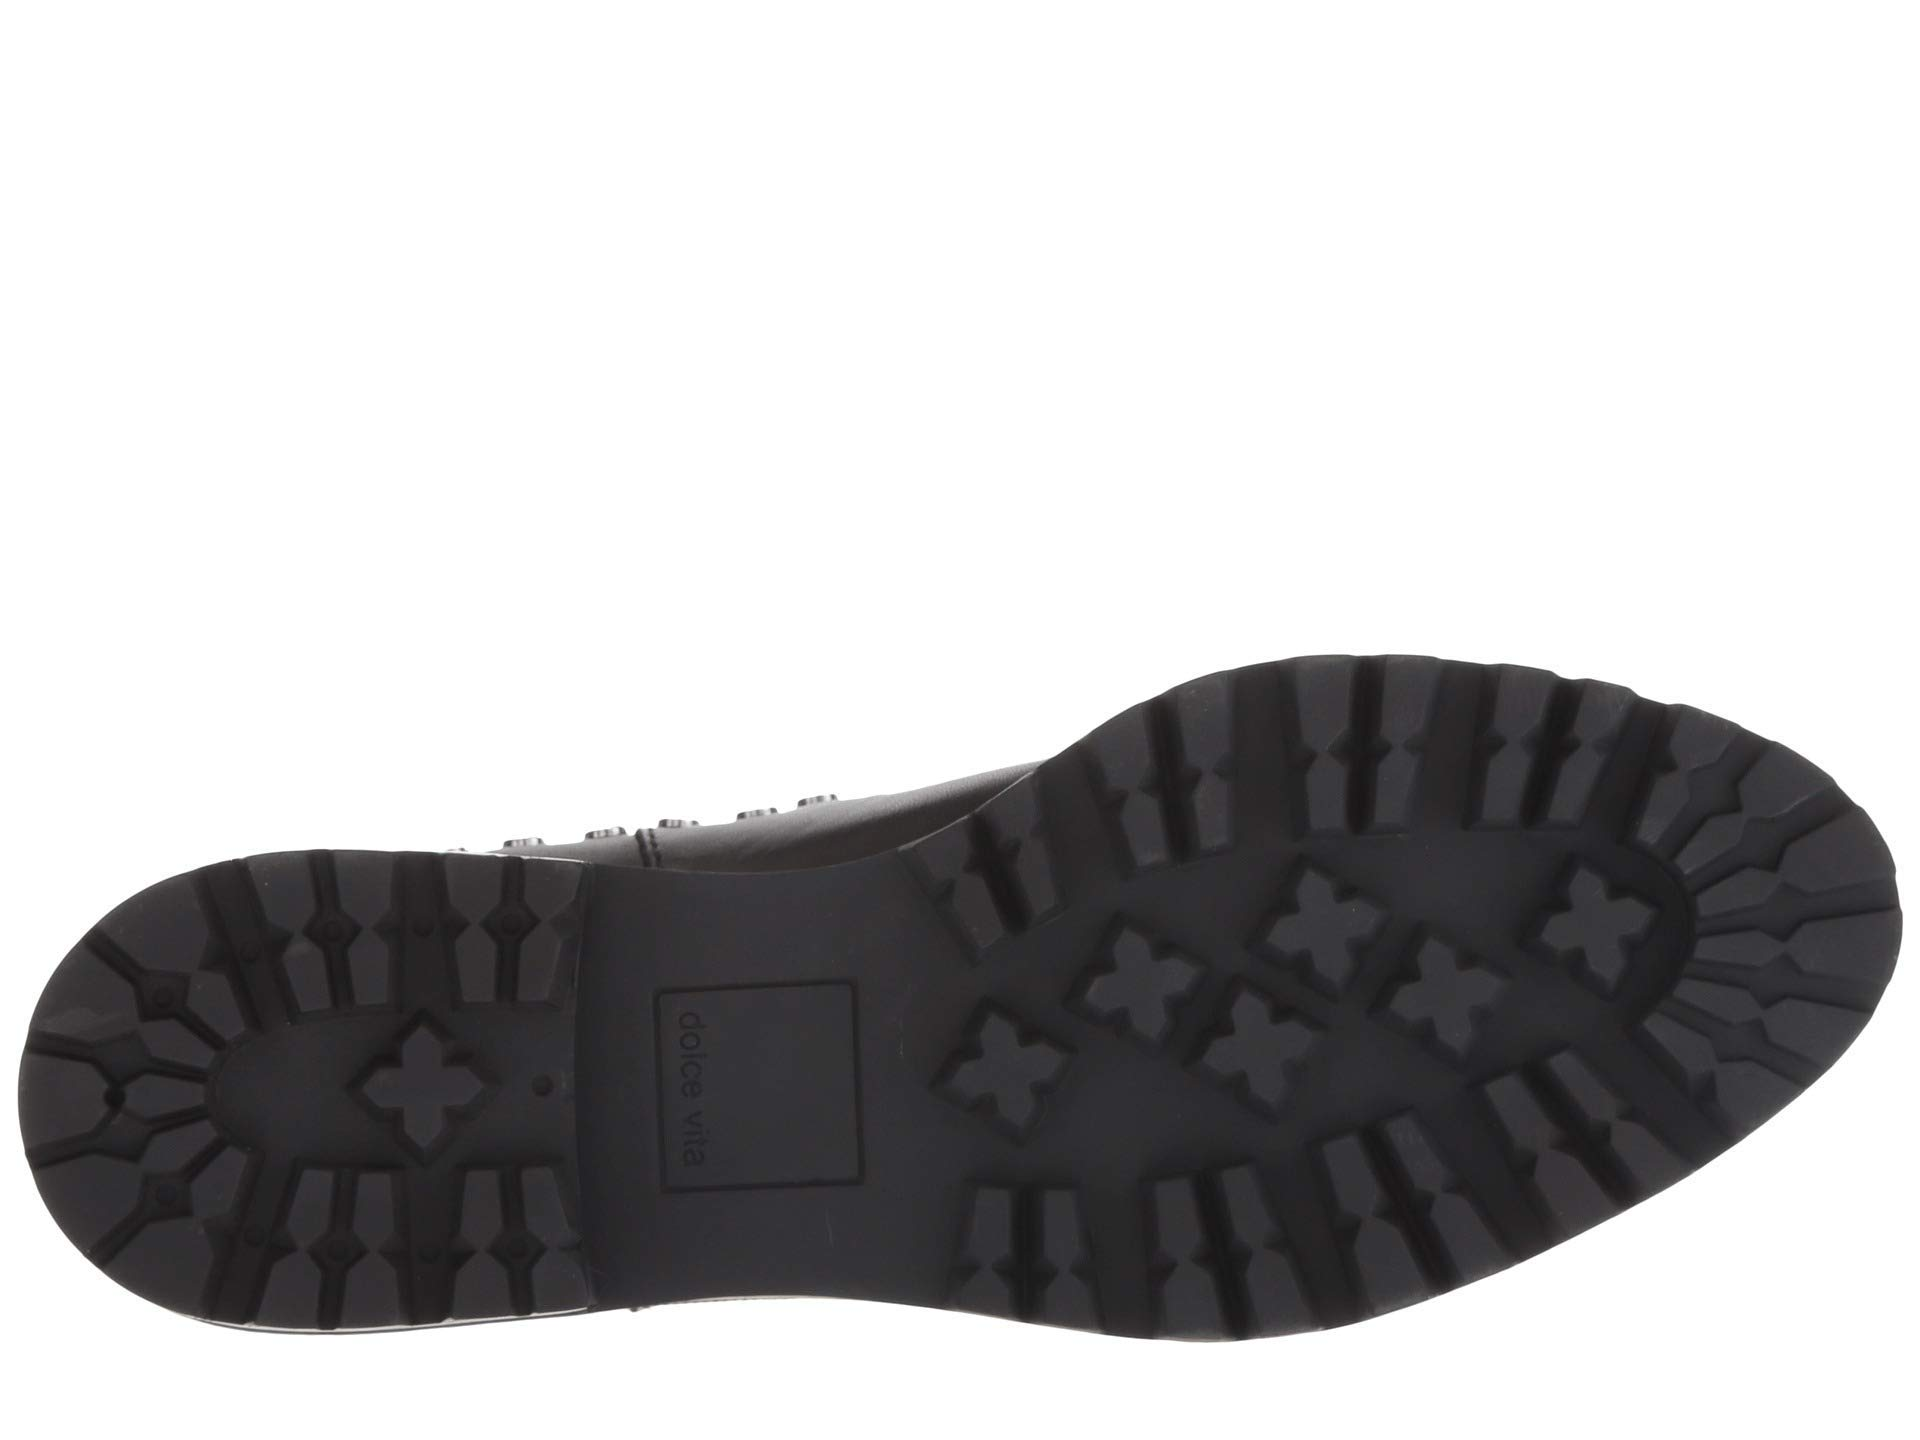bowtie: (1267, 649, 1420, 850), (945, 1168, 1123, 1336), (272, 1156, 420, 1337), (1442, 664, 1599, 833), (444, 1153, 602, 1322)
circle: (523, 1066, 556, 1106)
star: (1045, 885, 1544, 1098), (325, 1027, 493, 1145)
